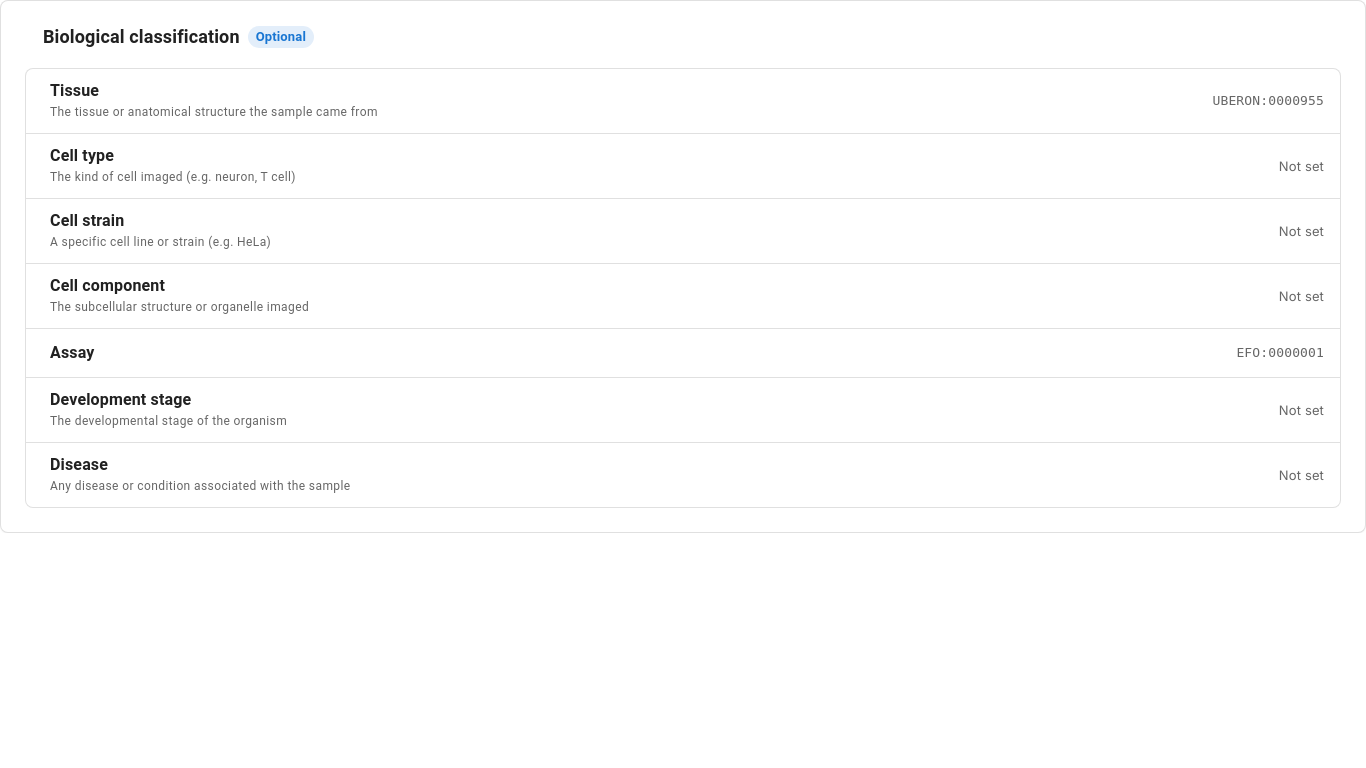
allows read-only users to expand and read classification names and IDs without editing
Click the button "Tissue".
click(75, 91)  # box [50,81,1324,119]
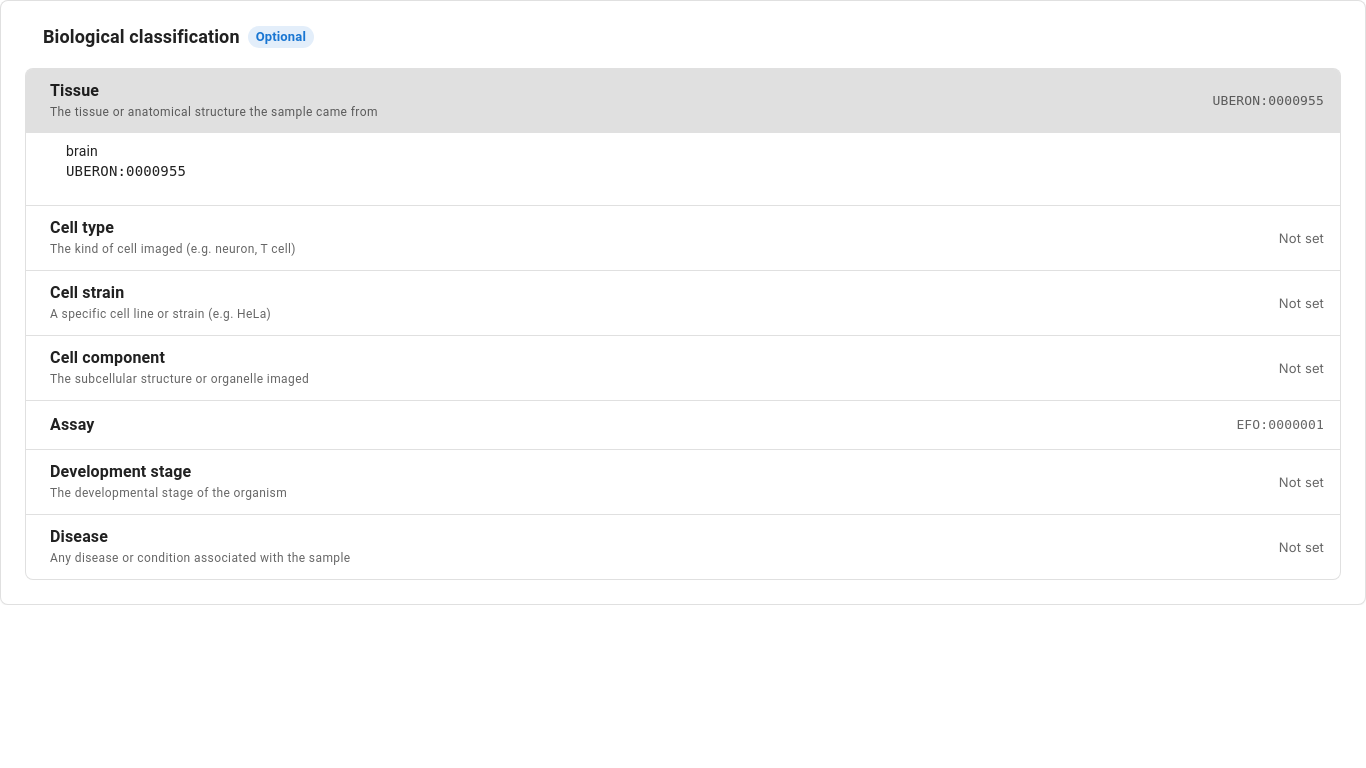
Check: the button "Tissue" is expanded, box [26,69,1340,133]
Check: the text "brain" is shown, box [66,143,98,159]
Click the button "Assay EFO:0000001".
click(72, 425)  # box [50,415,1324,434]
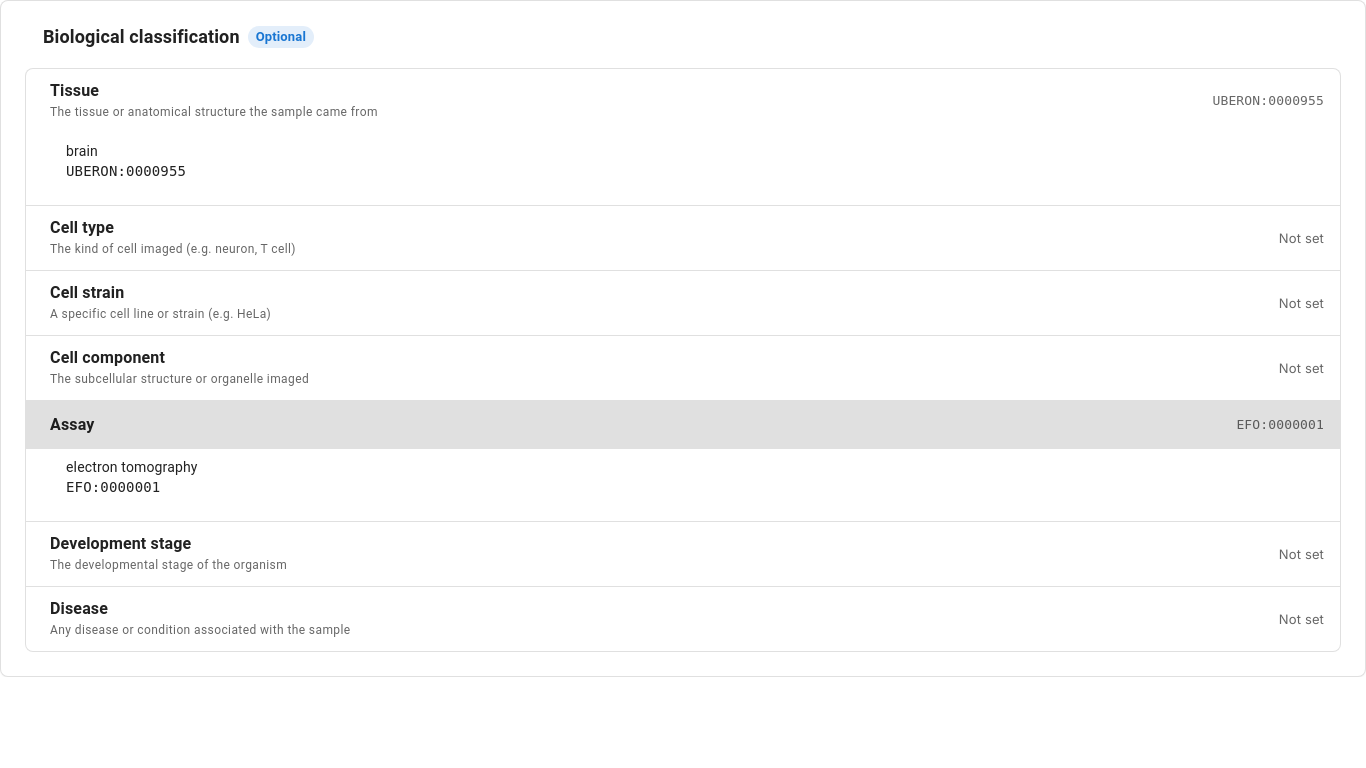
Check: the text "electron tomography" is shown, box [66,459,198,475]
